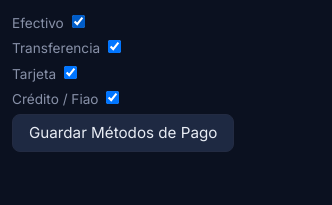
Scenario: PaymentsTab › guarda los métodos habilitados al enviar
This screenshot has width=332, height=205.
Click the checkbox labelled "Crédito / Fiao" at (113, 98), box x1=106 y1=91 x2=119 y2=104
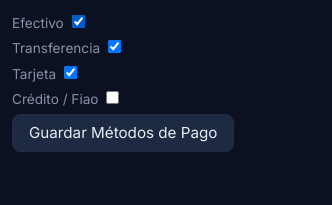
Click the button "Guardar Métodos de Pago" at (123, 133), box x1=12 y1=114 x2=234 y2=152
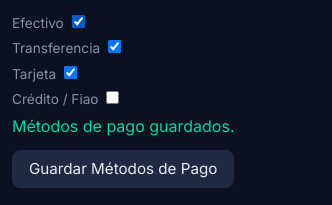
Now the text "Métodos de pago guardados." is shown, box x1=12 y1=116 x2=234 y2=136
